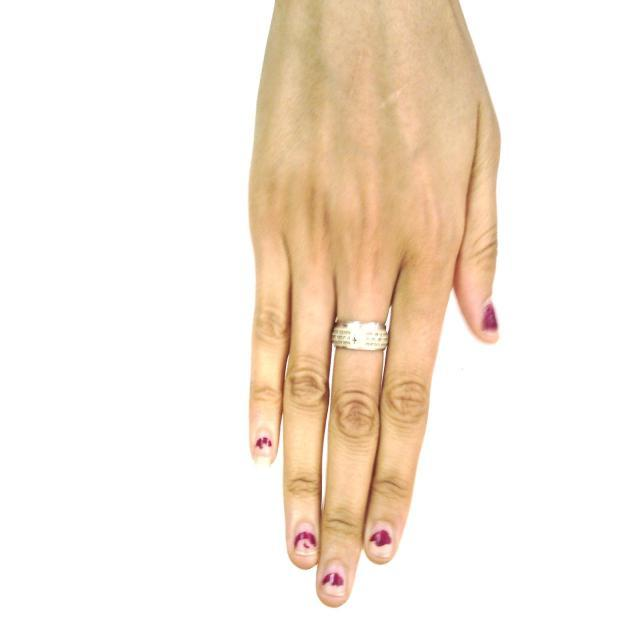Fingernail: (369, 524, 393, 558), (322, 562, 346, 596), (294, 523, 316, 556), (254, 432, 273, 465), (483, 301, 498, 332)
